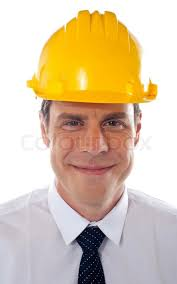Person_wearing_helmet: (29, 6, 162, 138)
